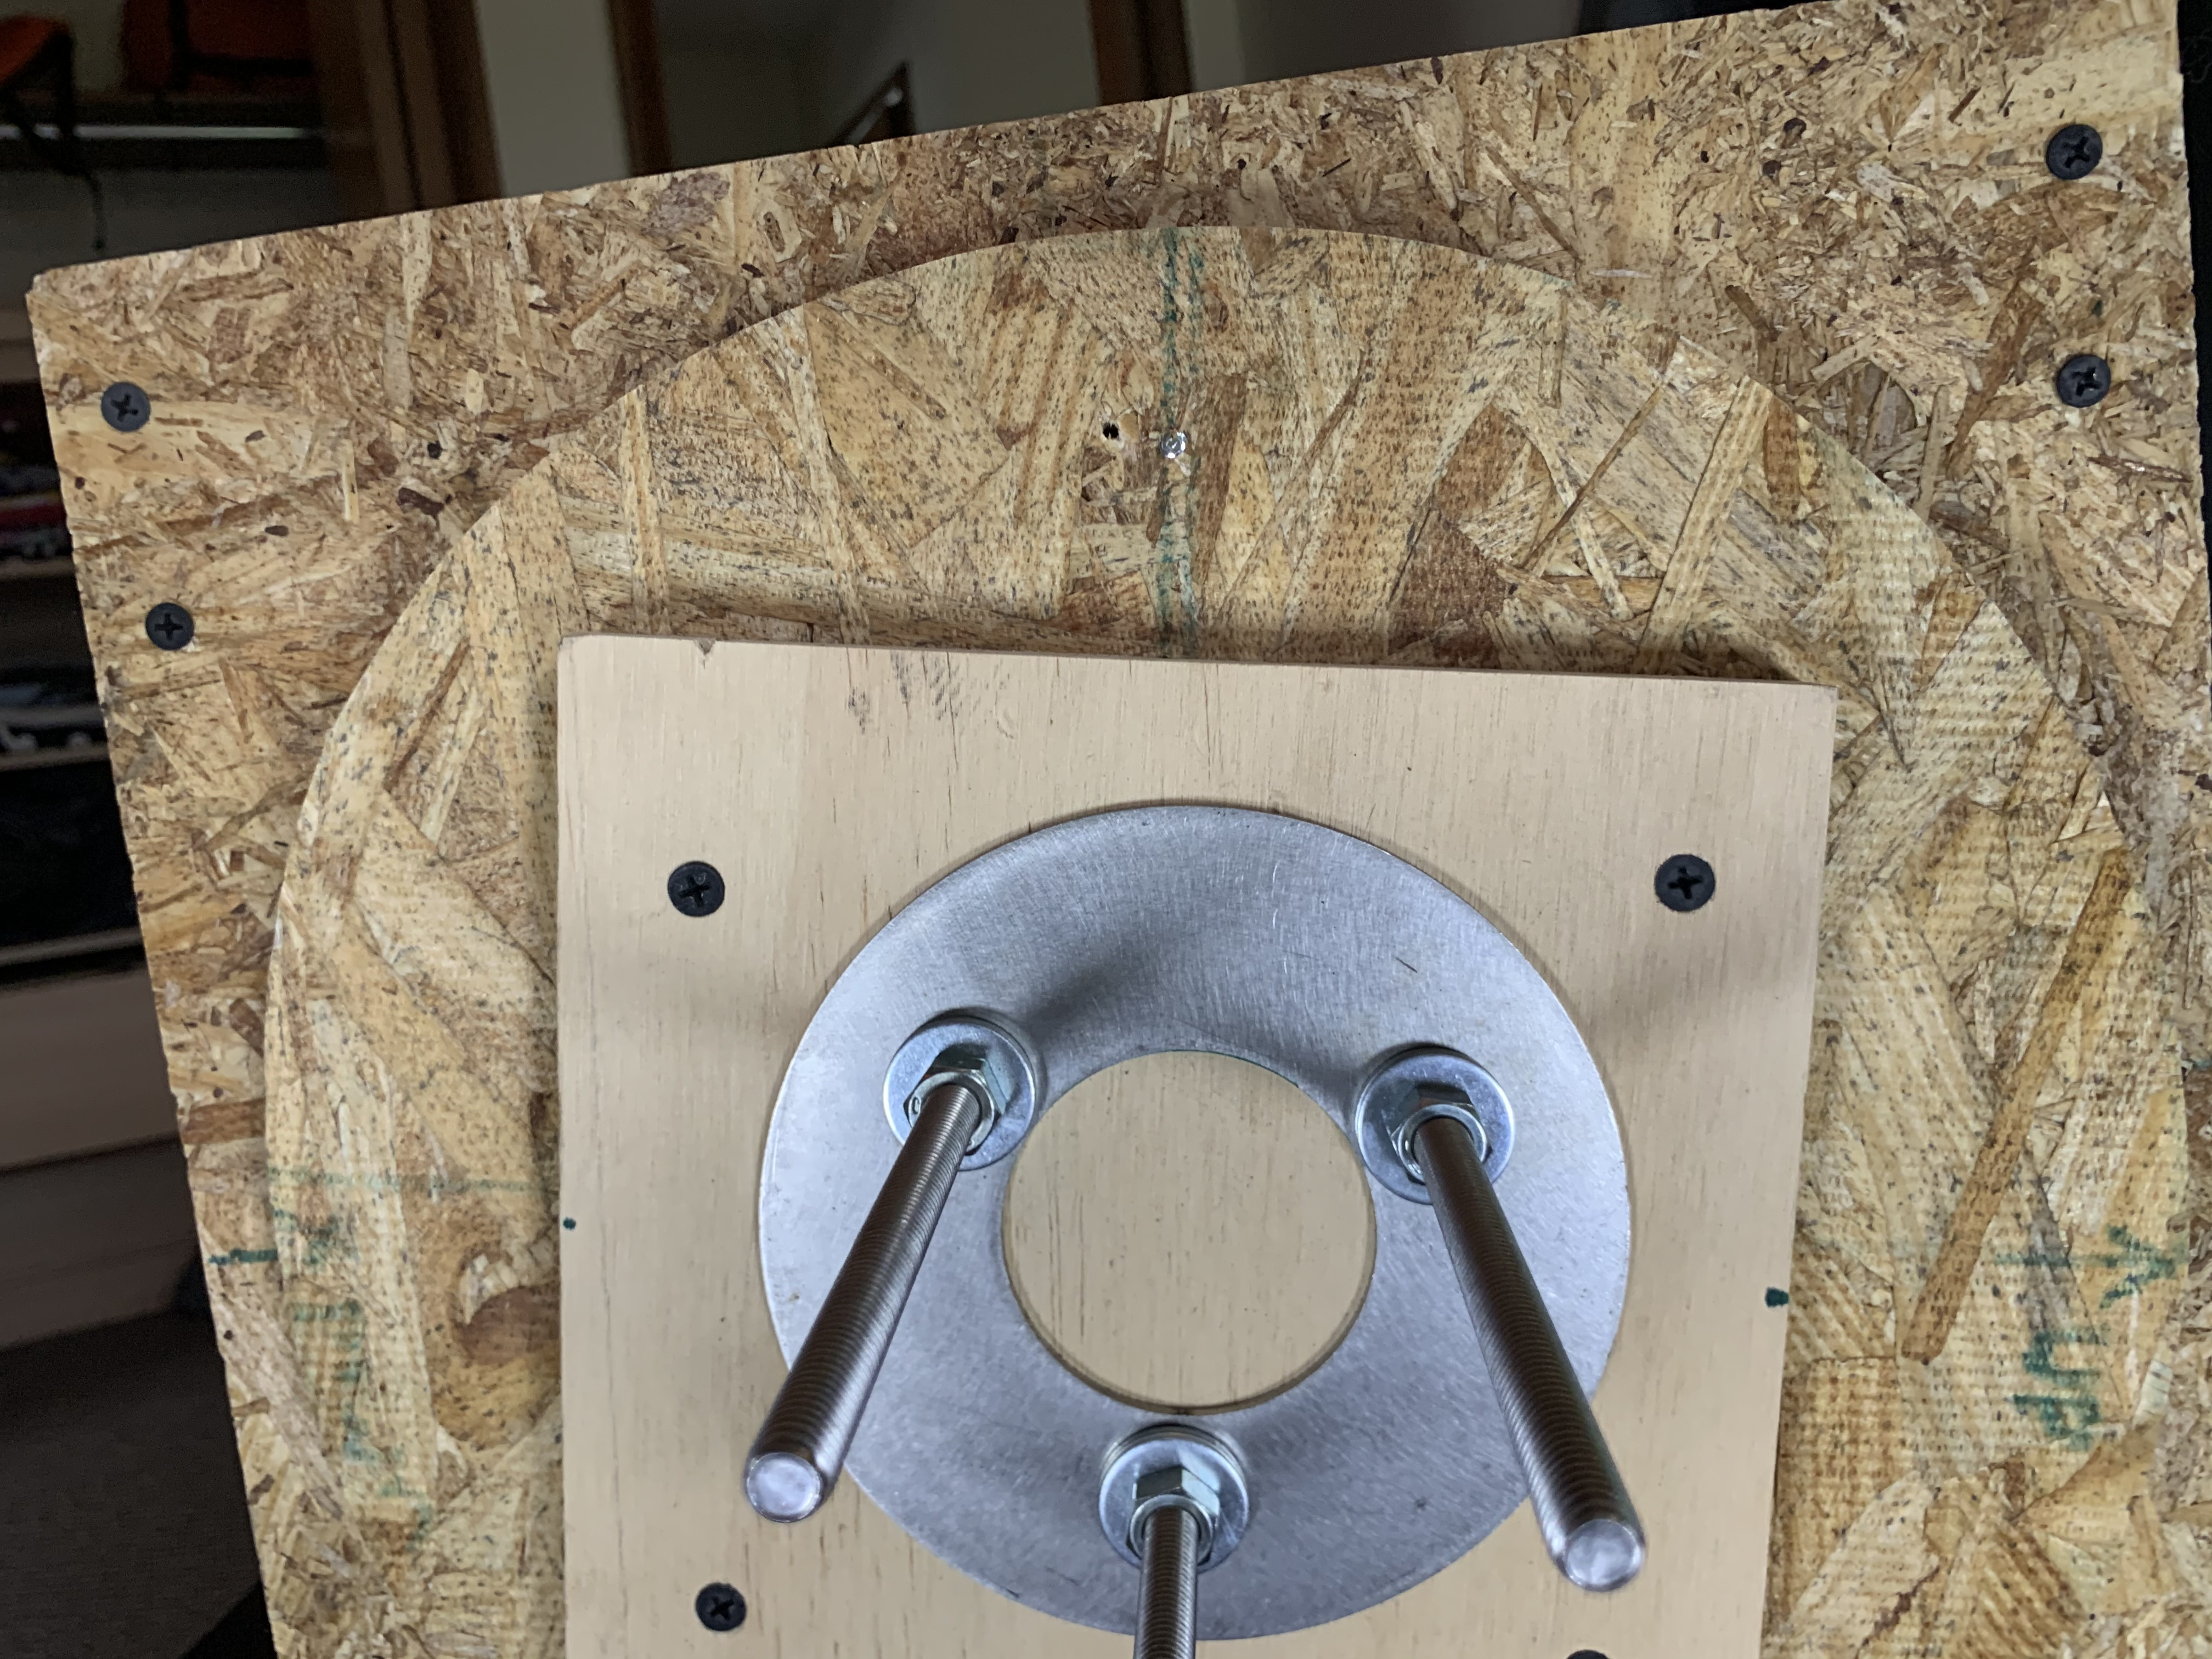bolt: (1348, 1047, 1519, 1216), (876, 1007, 1043, 1168), (1092, 1424, 1258, 1581)
